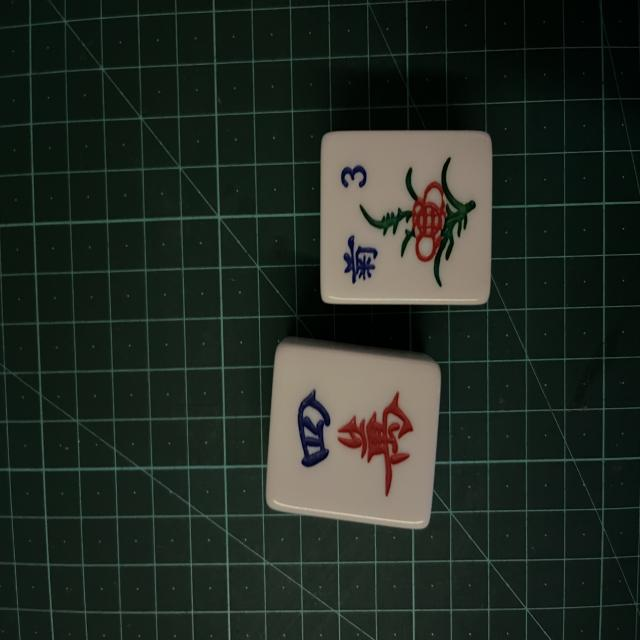3F: (326, 136, 486, 298)
4C: (279, 359, 426, 498)
